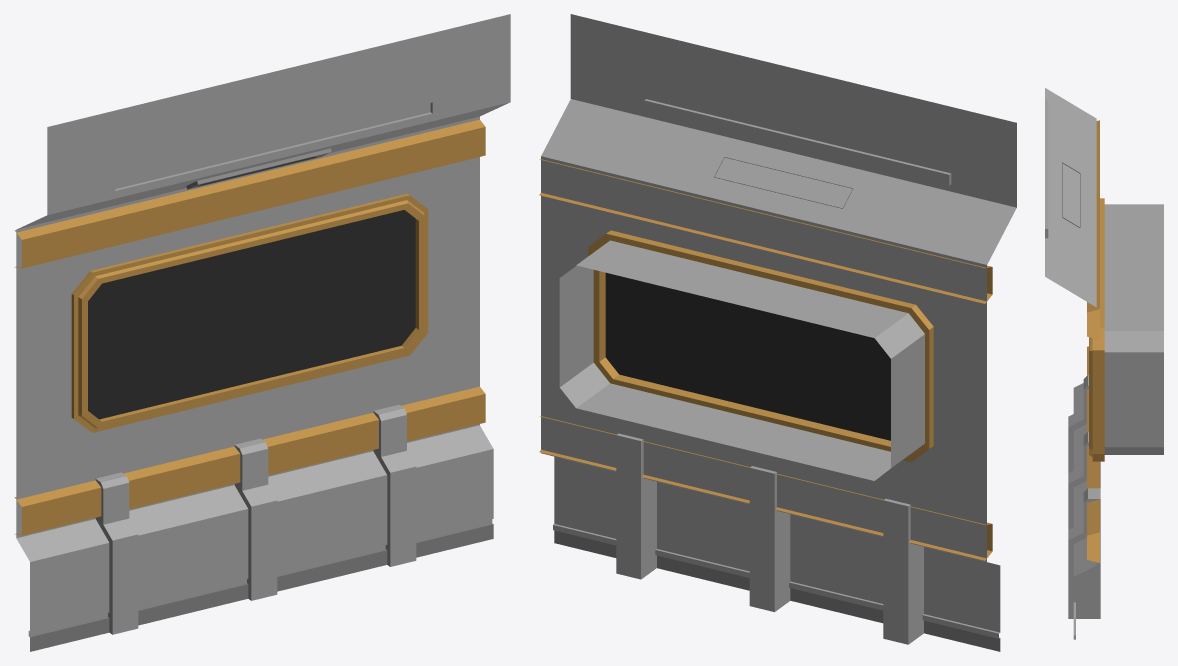
File: Window_Wall_SideA.fbx
The picture shows the model from 3 angles, left to right: view 1: azimuth 30°, elevation 25°; view 2: azimuth 150°, elevation 25°; view 3: azimuth 270°, elevation 25°; orthographic projection. The views are drawn at different scales.
Parts seen in each view (by area): view 1: Window_Wall_SideA; view 2: Window_Wall_SideA; view 3: Window_Wall_SideA.
Boxes of the visible parts, left/top/right/bottom form: Window_Wall_SideA: left=14, top=14, right=510, bottom=651; Window_Wall_SideA: left=539, top=14, right=1016, bottom=651; Window_Wall_SideA: left=1045, top=88, right=1163, bottom=639.
Bounding box in the file's own units: 4 × 4.43 × 1.06.
